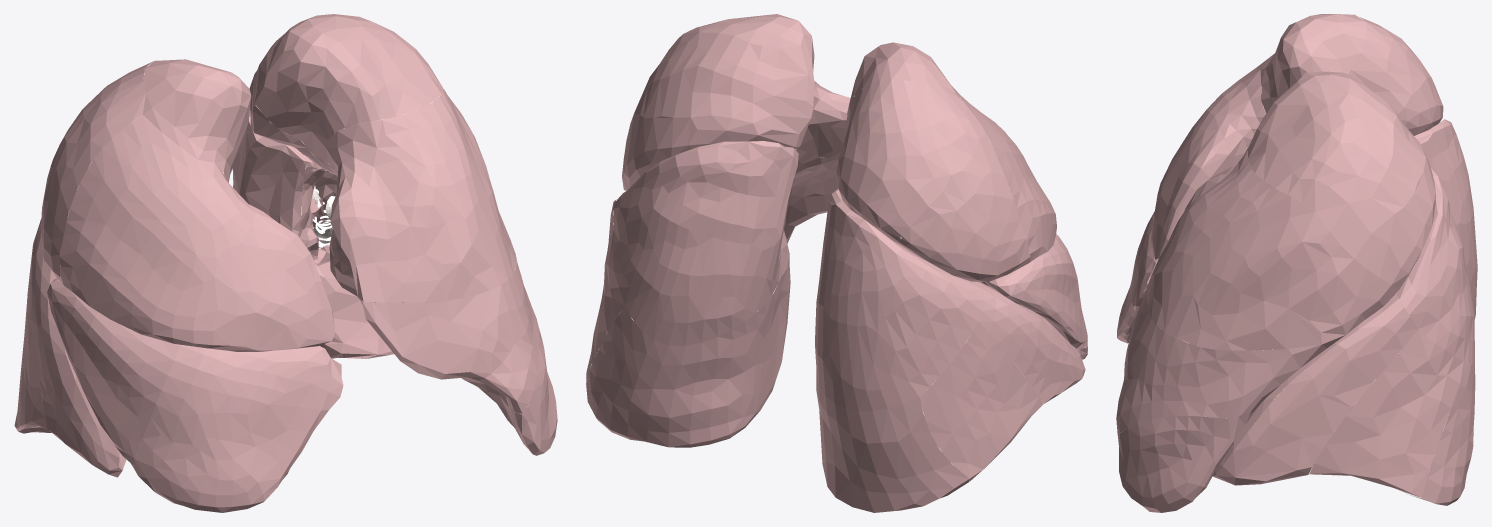
Rendered from 3d-vh-m-lung_0.4.glb.
3 views of the same model, side by side, from view 1: azimuth 30°, elevation 25°; view 2: azimuth 150°, elevation 25°; view 3: azimuth 270°, elevation 25° (orthographic). The views are drawn at different scales.
Visible parts, largest first — view 1: VH_M_right_anterior_bronchopulmonary_segment, VH_M_left_anterior_bronchopulmonary_segment, VH_M_right_medial_bronchopulmonary_segment, VH_M_left_apical_bronchopulmonary_segment, VH_M_left_lingula_superior_bronchopulmonary_segment, VH_M_right_lateral_bronchopulmonary_segment, VH_M_right_apical_bronchopulmonary_segment, VH_M_right_posterior_bronchopulmonary_segment, VH_M_right_anterior_basal_bronchopulmonary_segment, VH_M_left_superior_bronchopulmonary_segment, VH_M_left_lingula_inferior_bronchopulmonary_segment, VH_M_left_medial_basal_bronchopulmonary_segment (+5 smaller); view 2: VH_M_left_superior_bronchopulmonary_segment, VH_M_right_posterior_bronchopulmonary_segment, VH_M_right_superior_bronchopulmonary_segment, VH_M_left_posetrior_basal_bronchopulmonary_segment, VH_M_left_posterior_bronchopulmonary_segment, VH_M_right_posterior_basal_bronchopulmonary_segment, VH_M_right_lateral_basal_bronchopulmonary_segment, VH_M_left_apical_bronchopulmonary_segment, VH_M_right_anterior_basal_bronchopulmonary_segment, VH_M_right_lateral_bronchopulmonary_segment, VH_M_right_anterior_bronchopulmonary_segment, VH_M_left_lingula_superior_bronchopulmonary_segment (+3 smaller); view 3: VH_M_left_anterior_bronchopulmonary_segment, VH_M_left_posterior_bronchopulmonary_segment, VH_M_left_lateral_basal_bronchopulmonary_segment, VH_M_left_anterior_basal_bronchopulmonary_segment, VH_M_left_lingula_superior_bronchopulmonary_segment, VH_M_left_apical_bronchopulmonary_segment, VH_M_left_lingula_inferior_bronchopulmonary_segment, VH_M_right_anterior_bronchopulmonary_segment, VH_M_left_superior_bronchopulmonary_segment, VH_M_right_posterior_bronchopulmonary_segment, VH_M_right_apical_bronchopulmonary_segment, VH_M_left_posetrior_basal_bronchopulmonary_segment (+3 smaller).
Part boxes in pixels (bbox=[...]): VH_M_right_anterior_bronchopulmonary_segment: bbox=[59, 108, 334, 351]; VH_M_left_anterior_bronchopulmonary_segment: bbox=[326, 89, 516, 302]; VH_M_right_medial_bronchopulmonary_segment: bbox=[131, 345, 343, 512]; VH_M_left_apical_bronchopulmonary_segment: bbox=[254, 14, 443, 162]; VH_M_left_lingula_superior_bronchopulmonary_segment: bbox=[359, 258, 539, 413]; VH_M_right_lateral_bronchopulmonary_segment: bbox=[47, 277, 180, 465]; VH_M_right_apical_bronchopulmonary_segment: bbox=[143, 59, 251, 182]; VH_M_right_posterior_bronchopulmonary_segment: bbox=[40, 61, 153, 284]; VH_M_right_anterior_basal_bronchopulmonary_segment: bbox=[31, 270, 126, 477]; VH_M_left_superior_bronchopulmonary_segment: bbox=[232, 105, 334, 237]; VH_M_left_lingula_inferior_bronchopulmonary_segment: bbox=[330, 245, 557, 455]; VH_M_left_medial_basal_bronchopulmonary_segment: bbox=[320, 271, 393, 358]; VH_M_left_superior_bronchopulmonary_segment: bbox=[613, 141, 798, 345]; VH_M_right_posterior_bronchopulmonary_segment: bbox=[836, 80, 1030, 282]; VH_M_right_superior_bronchopulmonary_segment: bbox=[815, 188, 984, 411]; VH_M_left_posetrior_basal_bronchopulmonary_segment: bbox=[586, 262, 790, 447]; VH_M_left_posterior_bronchopulmonary_segment: bbox=[624, 42, 813, 187]; VH_M_right_posterior_basal_bronchopulmonary_segment: bbox=[816, 370, 969, 512]; VH_M_right_lateral_basal_bronchopulmonary_segment: bbox=[920, 322, 1043, 481]; VH_M_left_apical_bronchopulmonary_segment: bbox=[670, 14, 814, 107]; VH_M_right_anterior_basal_bronchopulmonary_segment: bbox=[978, 282, 1085, 403]; VH_M_right_lateral_bronchopulmonary_segment: bbox=[981, 234, 1086, 349]; VH_M_right_anterior_bronchopulmonary_segment: bbox=[951, 85, 1056, 262]; VH_M_left_lingula_superior_bronchopulmonary_segment: bbox=[624, 149, 838, 240]; VH_M_left_anterior_bronchopulmonary_segment: bbox=[1146, 149, 1399, 350]; VH_M_left_posterior_bronchopulmonary_segment: bbox=[1315, 102, 1435, 288]; VH_M_left_lateral_basal_bronchopulmonary_segment: bbox=[1309, 329, 1463, 497]; VH_M_left_anterior_basal_bronchopulmonary_segment: bbox=[1212, 298, 1418, 485]; VH_M_left_lingula_superior_bronchopulmonary_segment: bbox=[1116, 285, 1394, 435]; VH_M_left_apical_bronchopulmonary_segment: bbox=[1247, 71, 1386, 211]; VH_M_left_lingula_inferior_bronchopulmonary_segment: bbox=[1118, 404, 1259, 512]; VH_M_right_anterior_bronchopulmonary_segment: bbox=[1151, 53, 1274, 259]; VH_M_left_superior_bronchopulmonary_segment: bbox=[1395, 168, 1474, 366]; VH_M_right_posterior_bronchopulmonary_segment: bbox=[1348, 17, 1443, 135]; VH_M_right_apical_bronchopulmonary_segment: bbox=[1261, 14, 1366, 113]; VH_M_left_posetrior_basal_bronchopulmonary_segment: bbox=[1350, 361, 1475, 505].
Bounding box in the file's own units: 0.2597 × 0.2295 × 0.1899.
